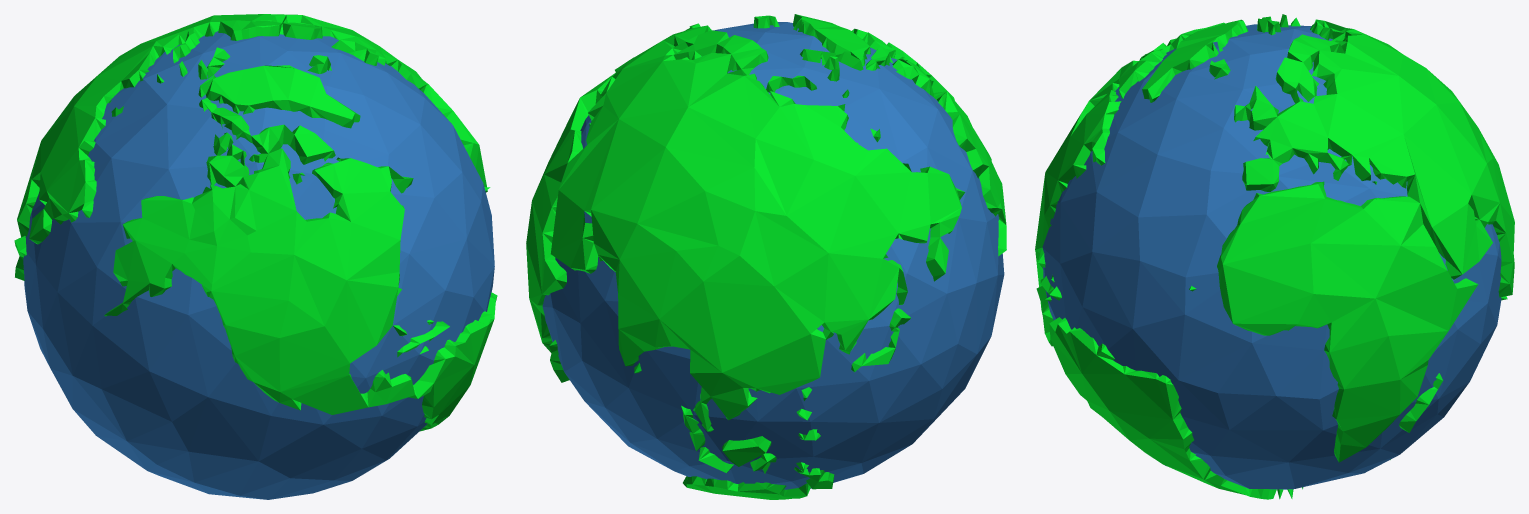
Rendered from low_poly_earth.gltf.
3 renders of one model, left to right at view 1: azimuth 30°, elevation 25°; view 2: azimuth 150°, elevation 25°; view 3: azimuth 270°, elevation 25°, orthographic.
Parts seen in each view (by area): view 1: low_poly_earth; view 2: low_poly_earth; view 3: low_poly_earth.
Boxes of the visible parts, <box> form: low_poly_earth: <box>14,14,497,499</box>; low_poly_earth: <box>526,14,1006,499</box>; low_poly_earth: <box>1035,14,1514,499</box>.
Bounding box in the file's own units: 1.95 × 2.01 × 1.99.
